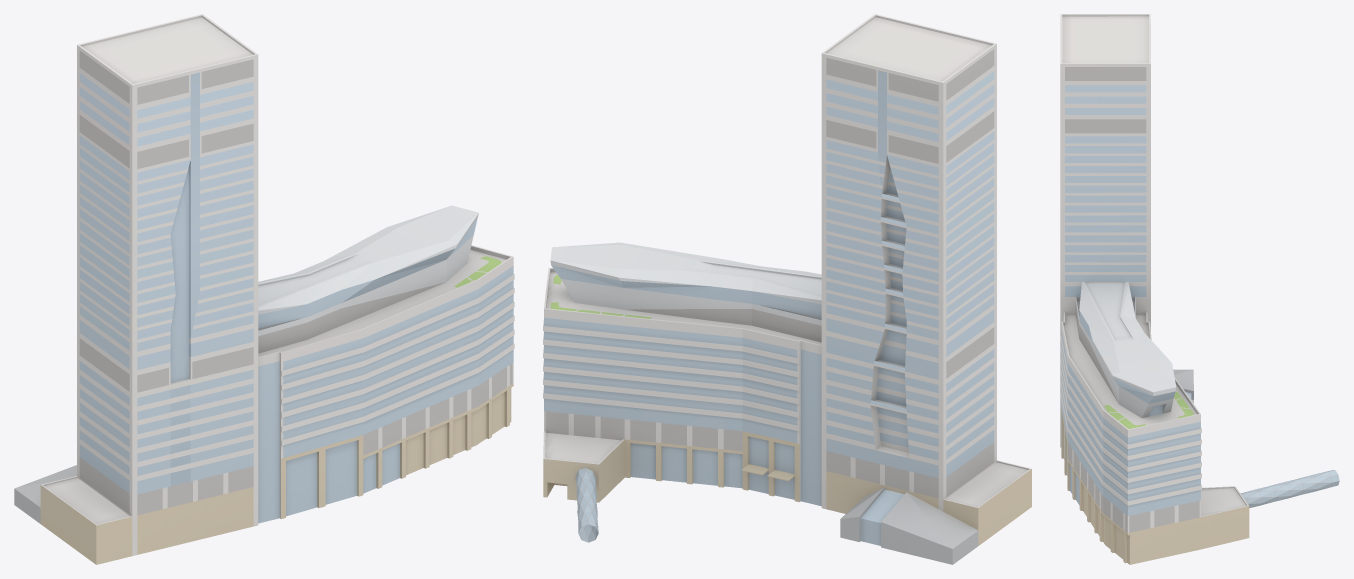
3 views of the same model, side by side, from view 1: azimuth 30°, elevation 25°; view 2: azimuth 150°, elevation 25°; view 3: azimuth 270°, elevation 25° (orthographic). The views are drawn at different scales.
Visible parts, largest first — view 1: 70000001084889903; view 2: 70000001084889903; view 3: 70000001084889903.
Boxes of the visible parts, bbox=[...] form: 70000001084889903: bbox=[14, 14, 514, 564]; 70000001084889903: bbox=[543, 14, 1031, 564]; 70000001084889903: bbox=[1060, 14, 1339, 564].
Bounding box in the file's own units: 139 × 136 × 89.54.
Materials: 1 (1 with a texture image).
